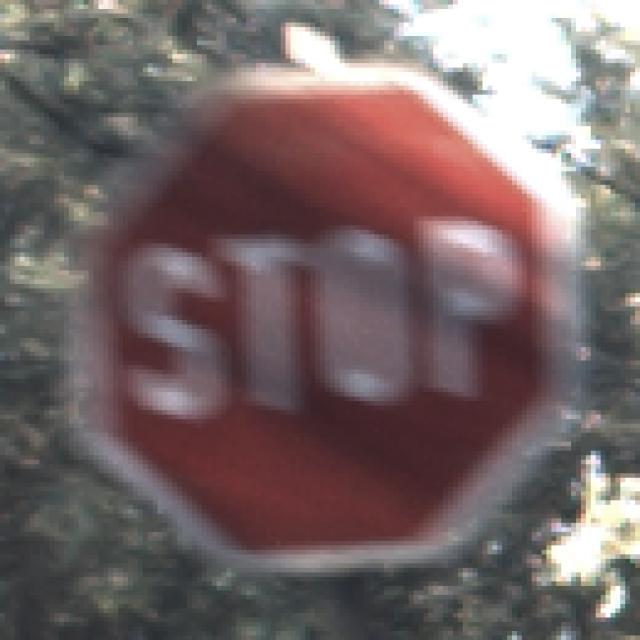STOP: (60, 55, 582, 582)
